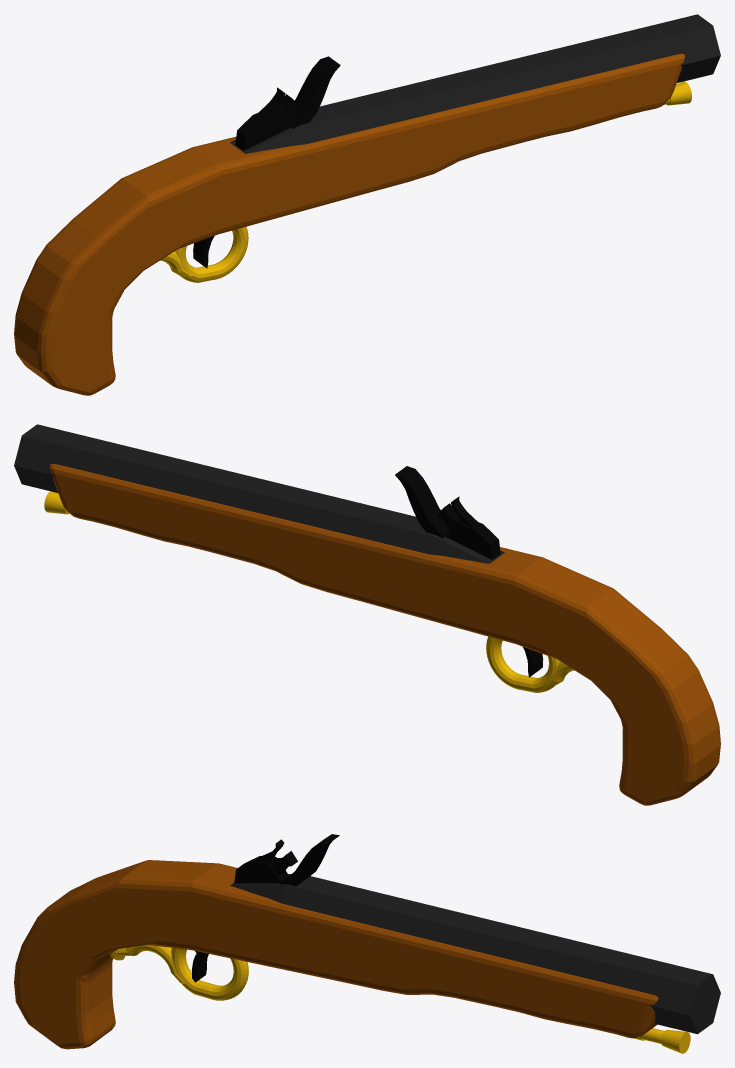
Rendered from Flintlock.fbx.
3 views of the same model, one above another, from view 1: azimuth 30°, elevation 25°; view 2: azimuth 150°, elevation 25°; view 3: azimuth 330°, elevation 25° (orthographic).
Visible parts, largest first — view 1: Cube.005, Cylinder.005, Cylinder.008, Torus.002, Cube.006; view 2: Cube.005, Cylinder.005, Cylinder.008, Torus.002, Cube.006; view 3: Cube.005, Cylinder.005, Torus.002, Cube.006, Cylinder.008, Cube.008, Torus.003, Cube.009.
Boxes of the visible parts, <box> form: Cube.005: <box>14,53,685,395</box>; Cylinder.005: <box>230,14,720,153</box>; Cylinder.008: <box>286,56,340,128</box>; Torus.002: <box>175,226,248,282</box>; Cube.006: <box>235,113,290,150</box>; Cube.005: <box>49,463,720,805</box>; Cylinder.005: <box>14,424,504,563</box>; Cylinder.008: <box>395,466,449,538</box>; Torus.002: <box>486,636,560,692</box>; Cube.006: <box>445,522,500,559</box>; Cube.005: <box>14,860,658,1049</box>; Cylinder.005: <box>230,874,720,1034</box>; Torus.002: <box>171,948,248,1000</box>; Cube.006: <box>234,856,288,883</box>; Cylinder.008: <box>279,834,339,886</box>; Cube.008: <box>640,1028,690,1053</box>; Torus.003: <box>110,945,185,983</box>; Cube.009: <box>191,951,208,982</box>.
Bounding box in the file's own units: 504 × 186 × 40.05.
